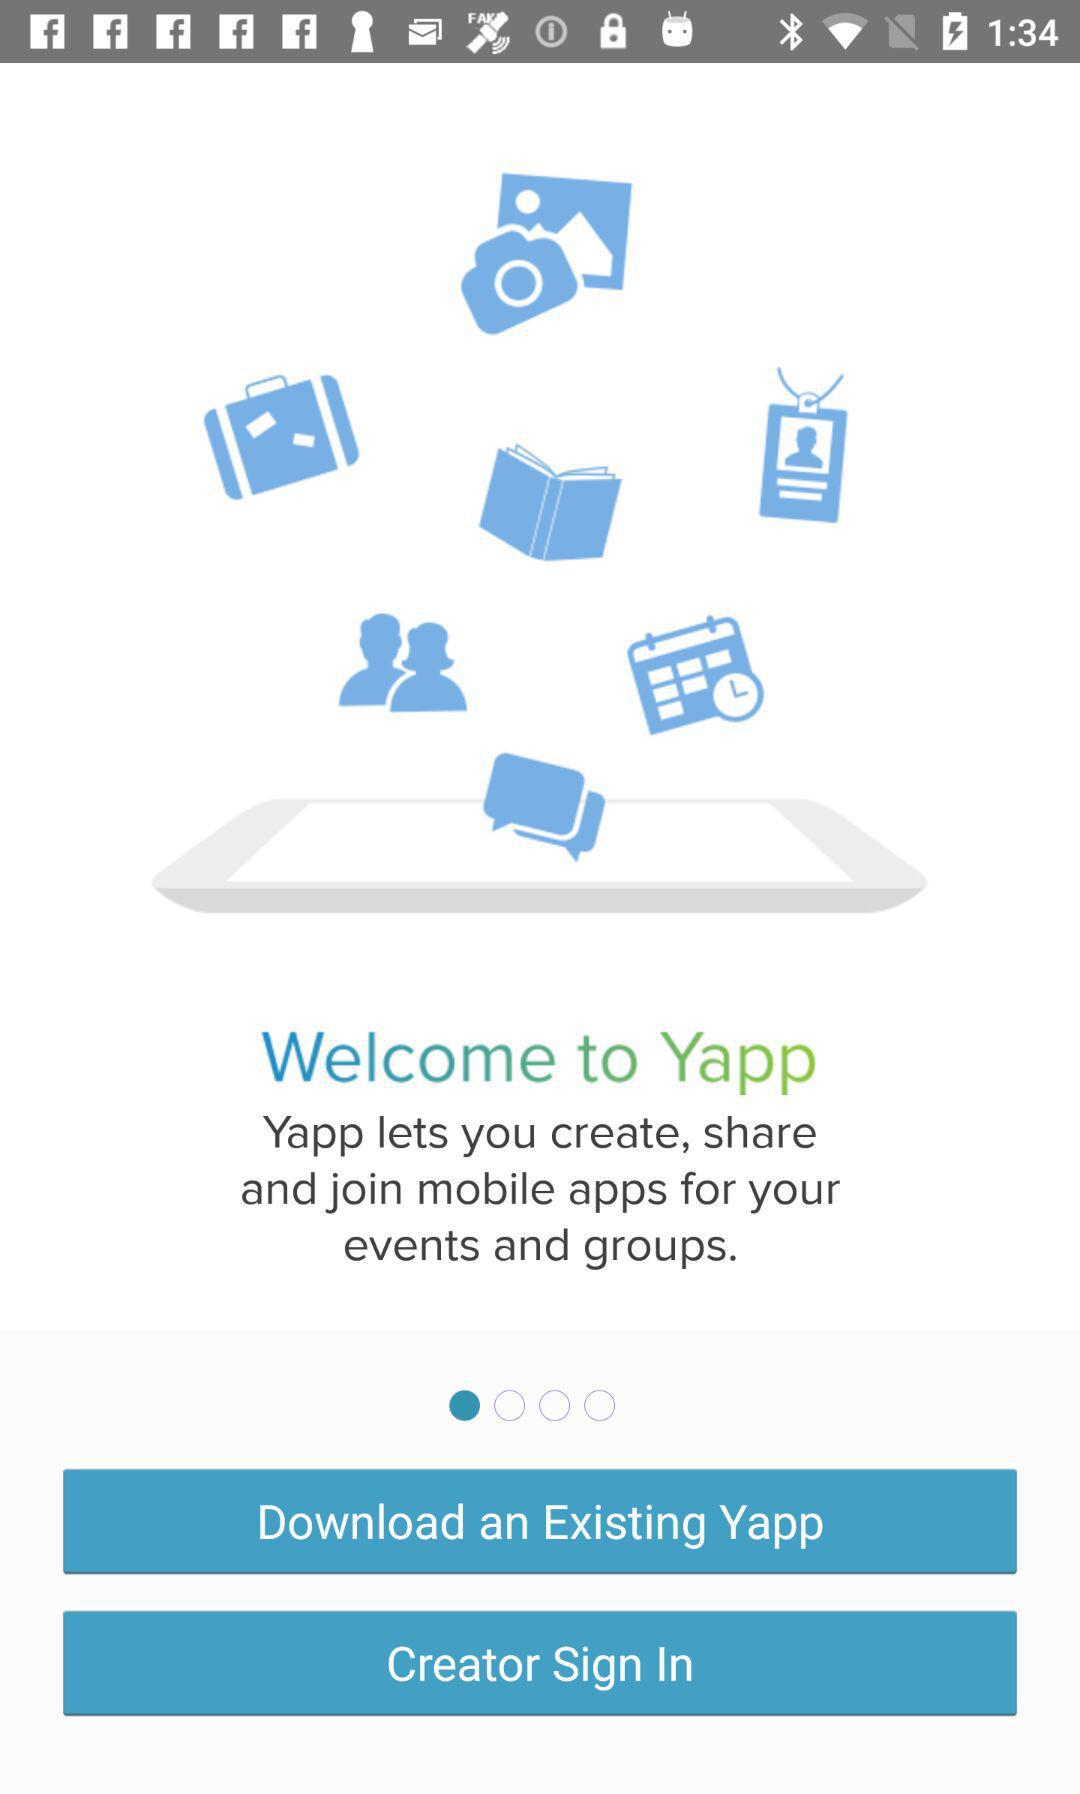Image: (150, 170, 930, 918)
PageIndicator: (448, 1389, 618, 1422)
Text: (238, 1114, 840, 1271), (260, 1030, 816, 1098)
TextButton: (61, 1467, 1019, 1576), (61, 1609, 1019, 1718)
UpperTaskBar: (1, 1, 1080, 64)
